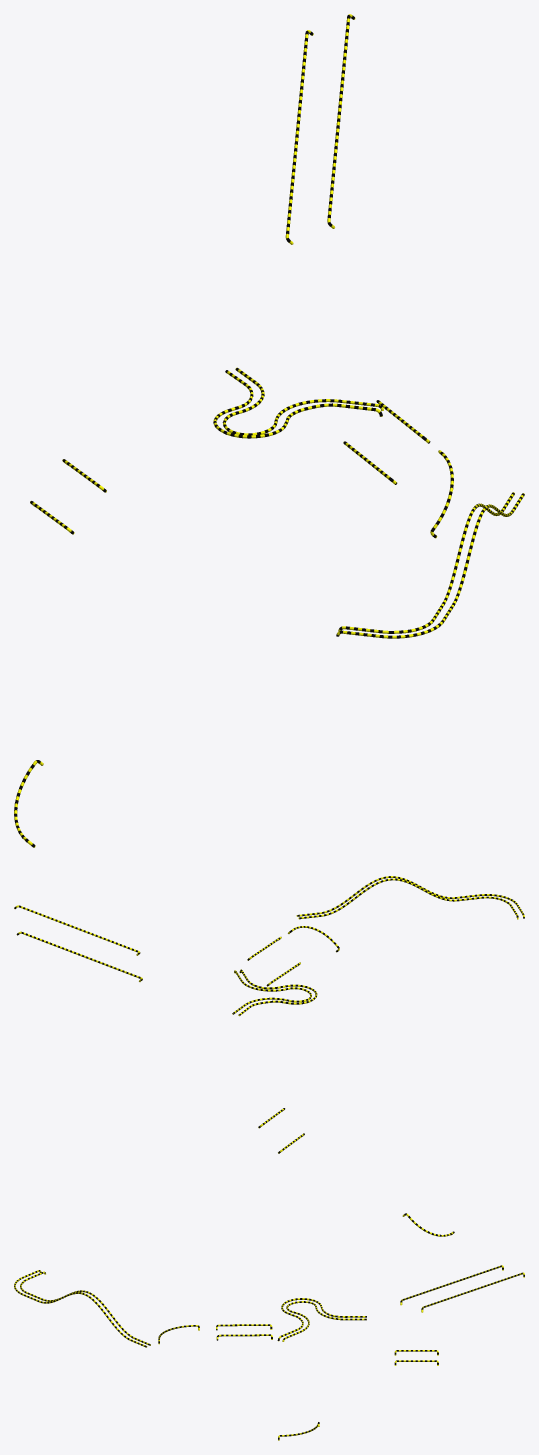
File: rod_12,12,12.FBX
3 views of the same model, one above another, from view 1: azimuth 30°, elevation 25°; view 2: azimuth 150°, elevation 25°; view 3: azimuth 270°, elevation 25° (orthographic). The views are drawn at different scales.
Parts seen in each view (by area): view 1: rod_12_walk, rod_12; view 2: rod_12_walk, rod_12; view 3: rod_12_walk, rod_12.
Boxes of the visible parts, x1,y1,x2,y2 form: rod_12_walk: [213, 367, 524, 638]; rod_12: [14, 14, 453, 847]; rod_12_walk: [232, 876, 524, 1016]; rod_12: [14, 905, 454, 1236]; rod_12_walk: [14, 1270, 366, 1347]; rod_12: [158, 1265, 524, 1440].
Size of the model in its own units: 5666 by 5782 by 8461.
